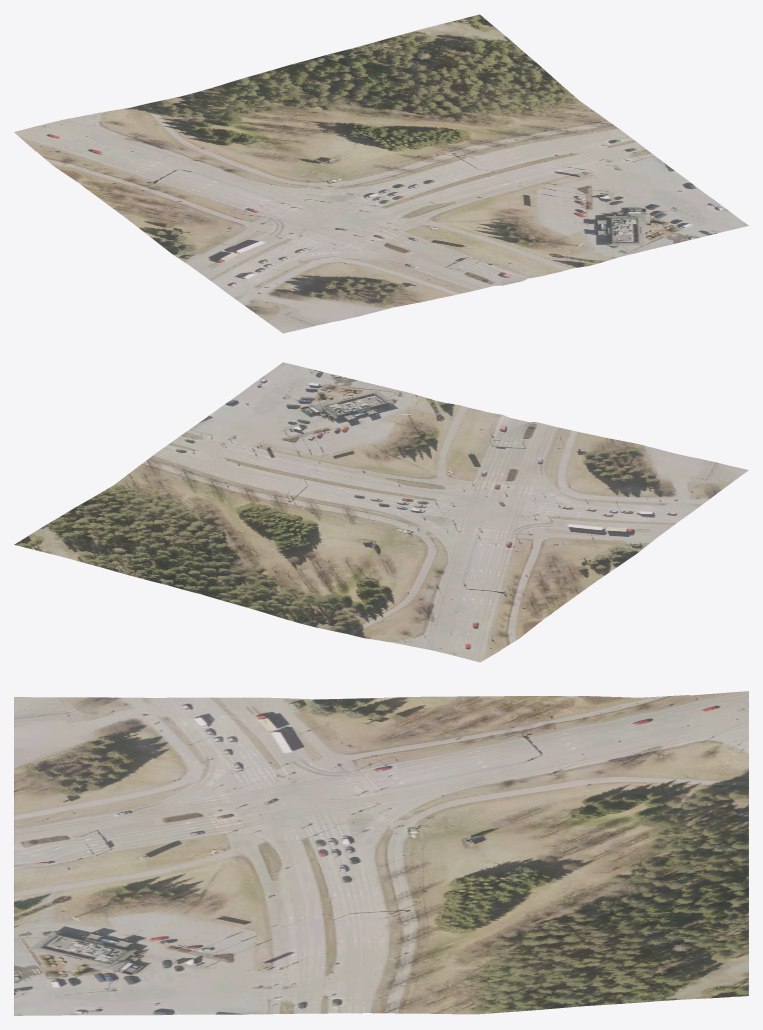
The model's file is CM_Terrain_24490458_6820408.fbx.
The picture shows the model from 3 angles, top to bottom: view 1: azimuth 30°, elevation 25°; view 2: azimuth 150°, elevation 25°; view 3: azimuth 270°, elevation 25°; orthographic projection. The views are drawn at different scales.
Parts seen in each view (by area): view 1: CM_Terrain_24490458_6820408_LOD0; view 2: CM_Terrain_24490458_6820408_LOD0; view 3: CM_Terrain_24490458_6820408_LOD0.
Boxes of the visible parts, x1,y1,x2,y2 form: CM_Terrain_24490458_6820408_LOD0: (14, 14, 748, 333); CM_Terrain_24490458_6820408_LOD0: (14, 362, 748, 662); CM_Terrain_24490458_6820408_LOD0: (14, 691, 748, 1015).
Size of what is drawn, in the model's own units: 205 by 7.12 by 205.
